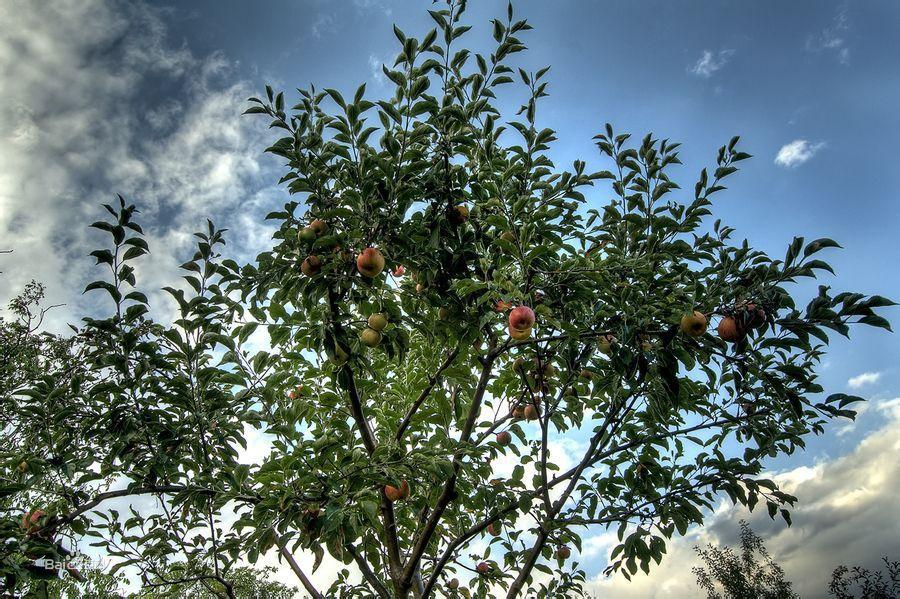apple: (356, 247, 386, 279), (360, 312, 388, 346), (718, 315, 748, 343), (681, 311, 708, 337), (508, 307, 537, 331), (384, 478, 411, 502), (302, 218, 328, 241), (302, 254, 322, 276)
